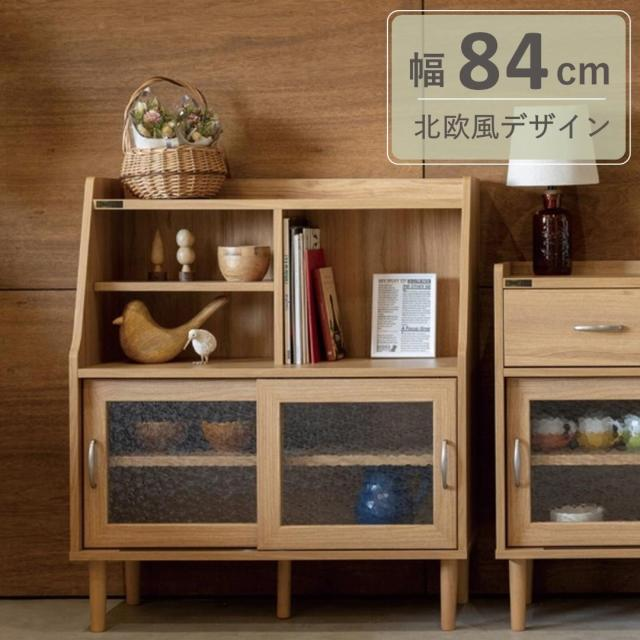natural shelf: (76, 175, 478, 633), (491, 254, 640, 629)
